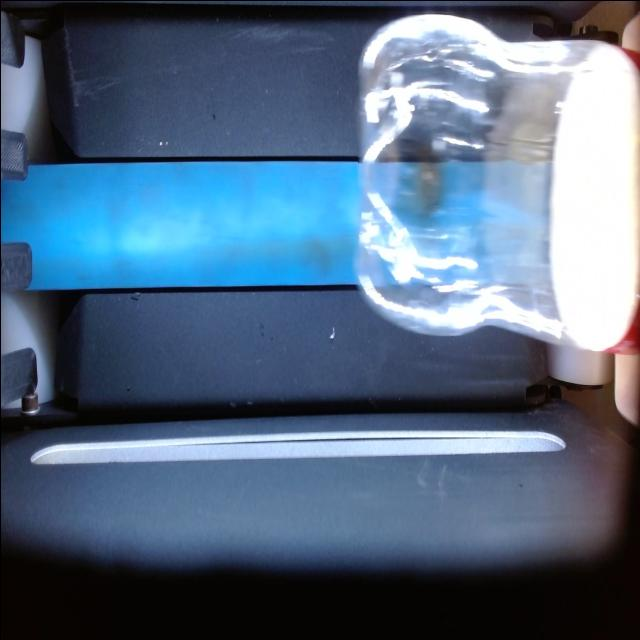bottle: (357, 12, 640, 354)
